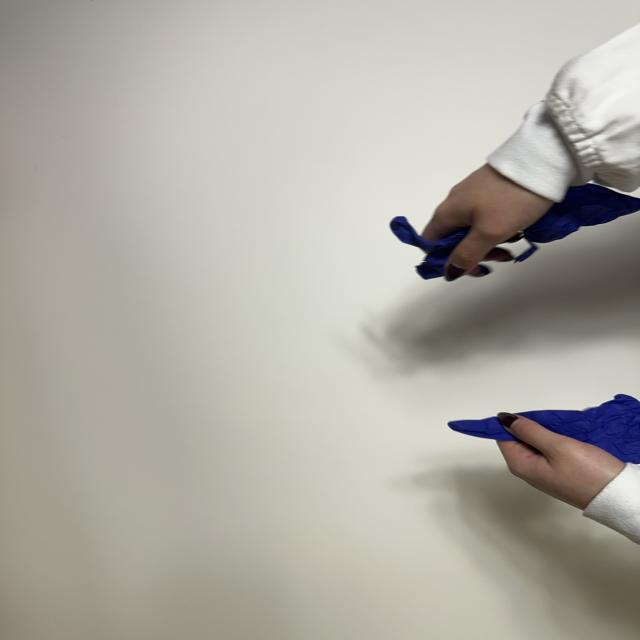glove_not_fitted: (390, 167, 640, 281), (449, 395, 640, 515)
